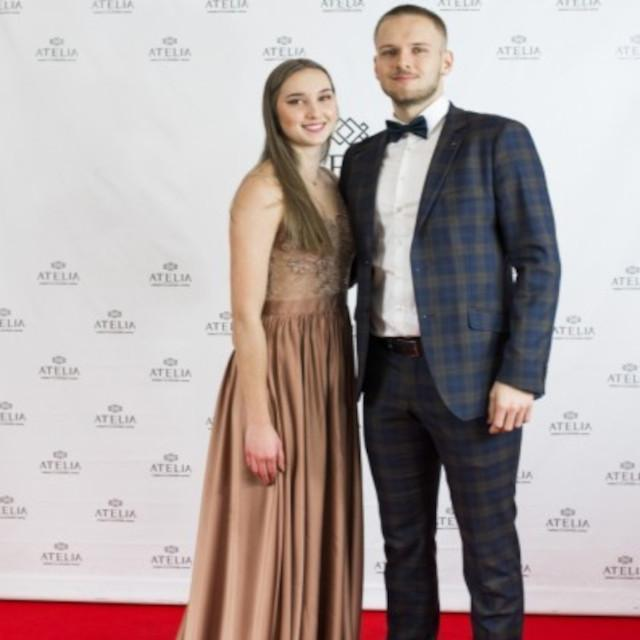kobieta: (178, 57, 347, 640)
mezczyzna: (345, 4, 562, 634)
